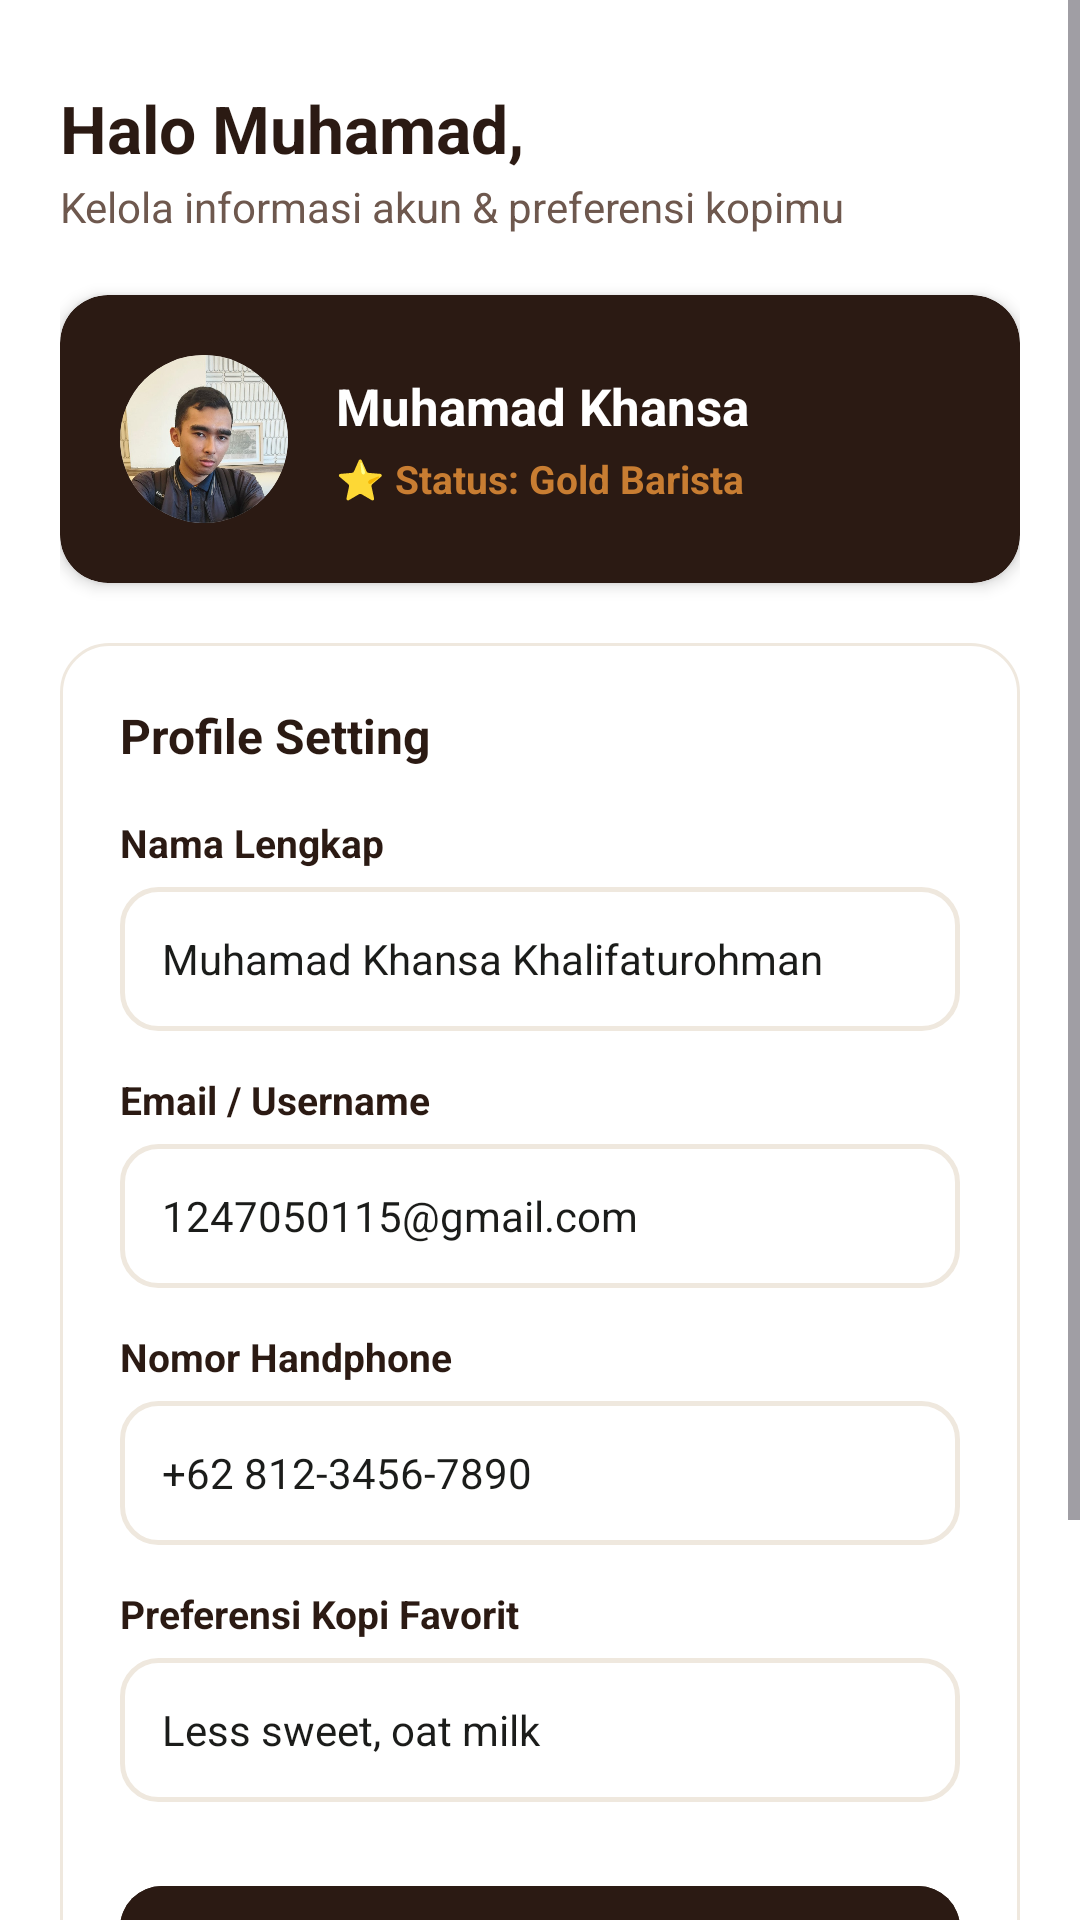

Locate icon controls on the screen. Image size 1080x1920, boxes as {"x1": x1, "y1": y1, "x2": x2, "y2": y2}.
Avatar: {"x1": 120, "y1": 355, "x2": 288, "y2": 523}
